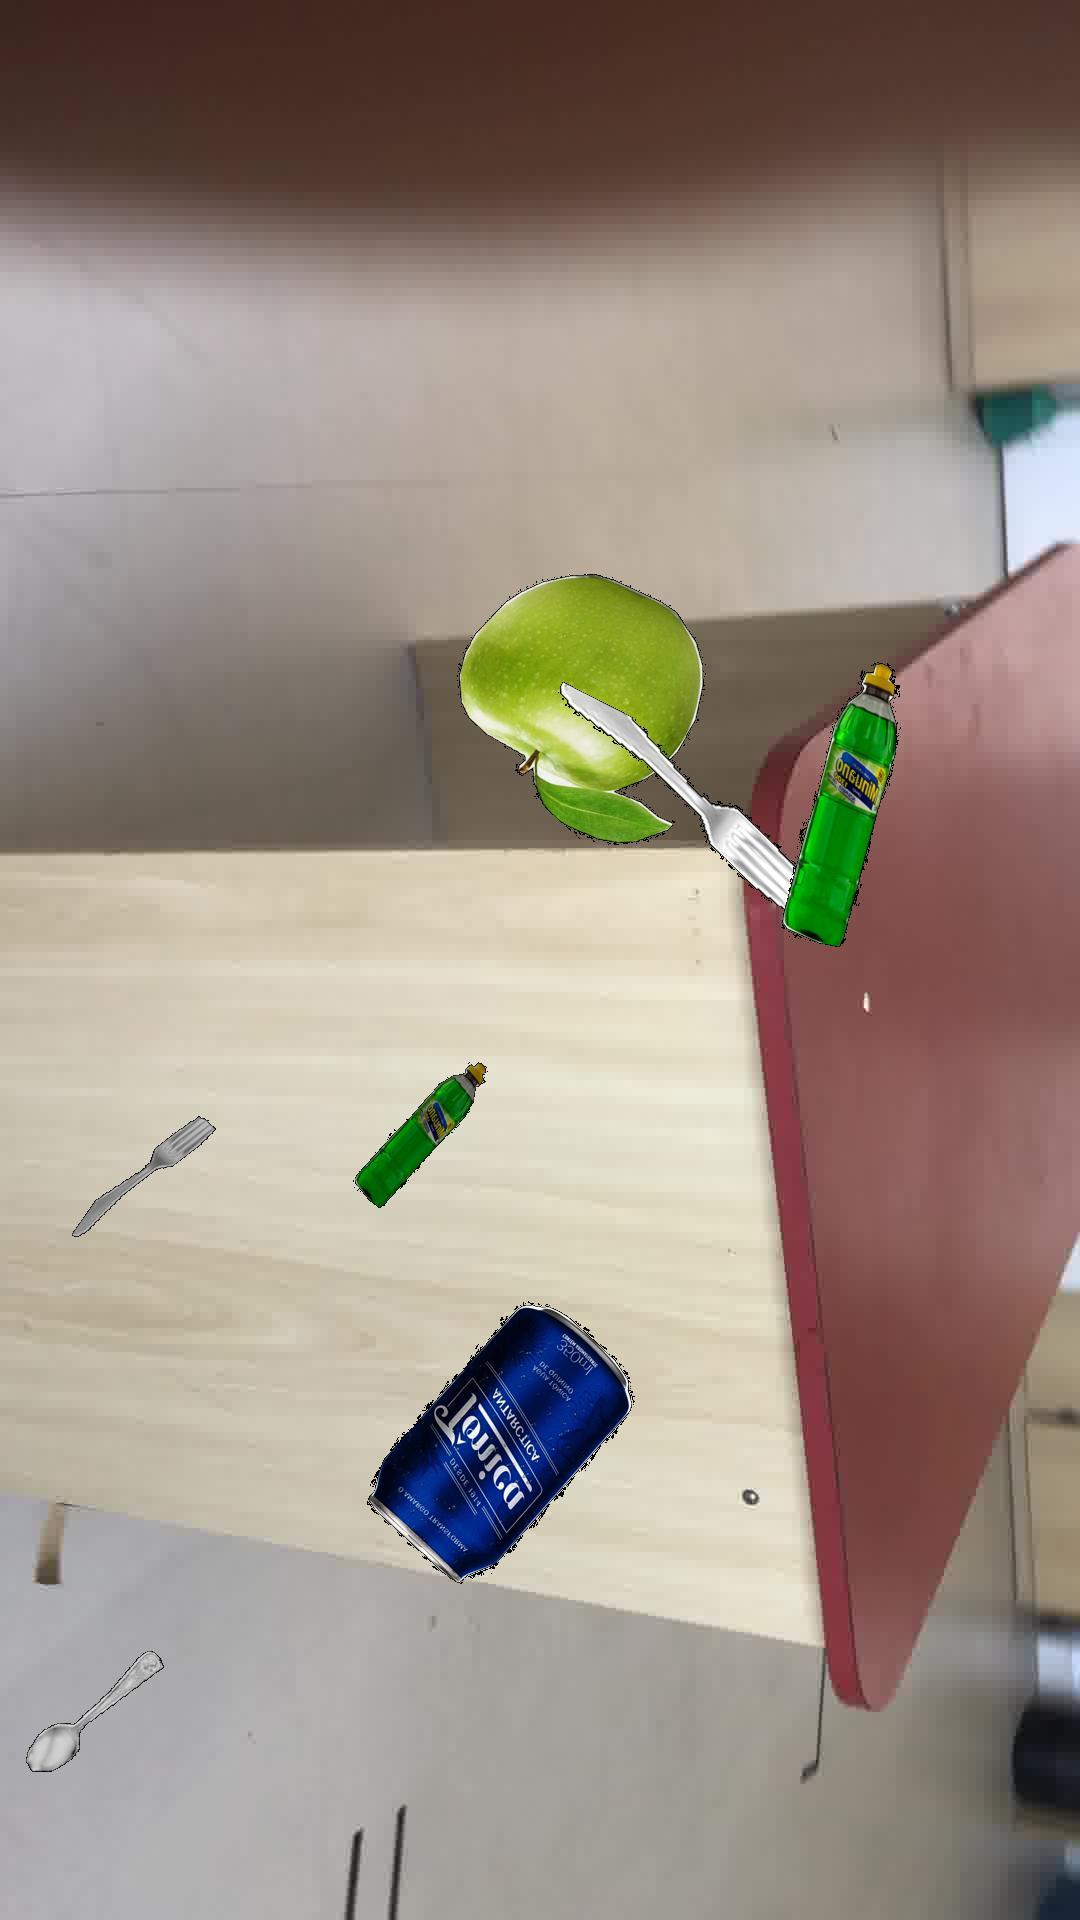cleaner: (779, 662, 898, 945), (353, 1060, 484, 1207)
fork: (559, 680, 794, 907), (70, 1114, 215, 1236)
green apple: (456, 572, 703, 844)
spoon: (25, 1650, 162, 1771)
tonic: (365, 1300, 630, 1581)
